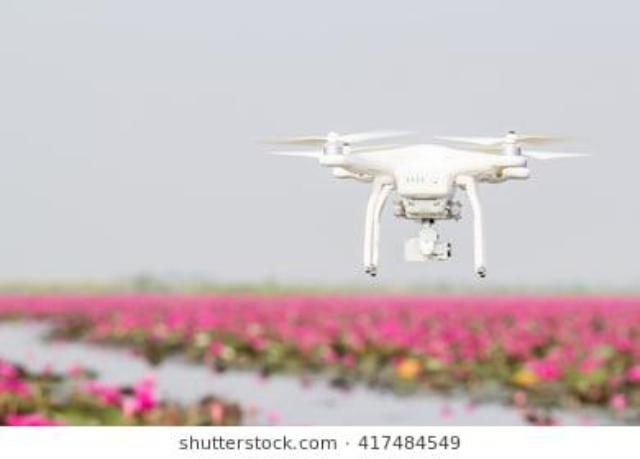drone: (255, 114, 605, 288)
